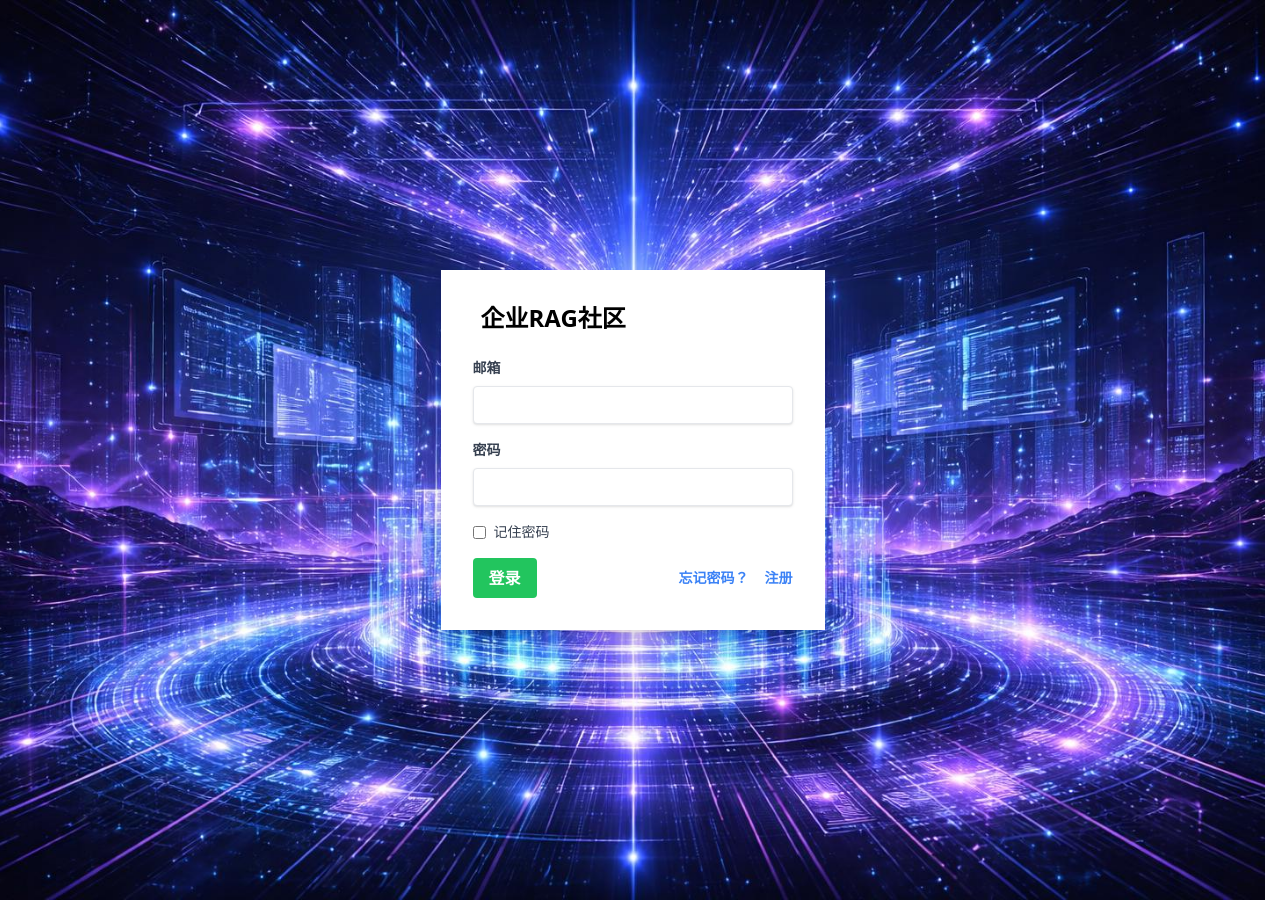
Test: Login › uses form email when EMAIL_NOT_VERIFIED does not provide email and supports resend defaults
Type "fallback@example.com" into the field labelled "邮箱" at (632, 405), box x1=472 y1=386 x2=792 y2=424
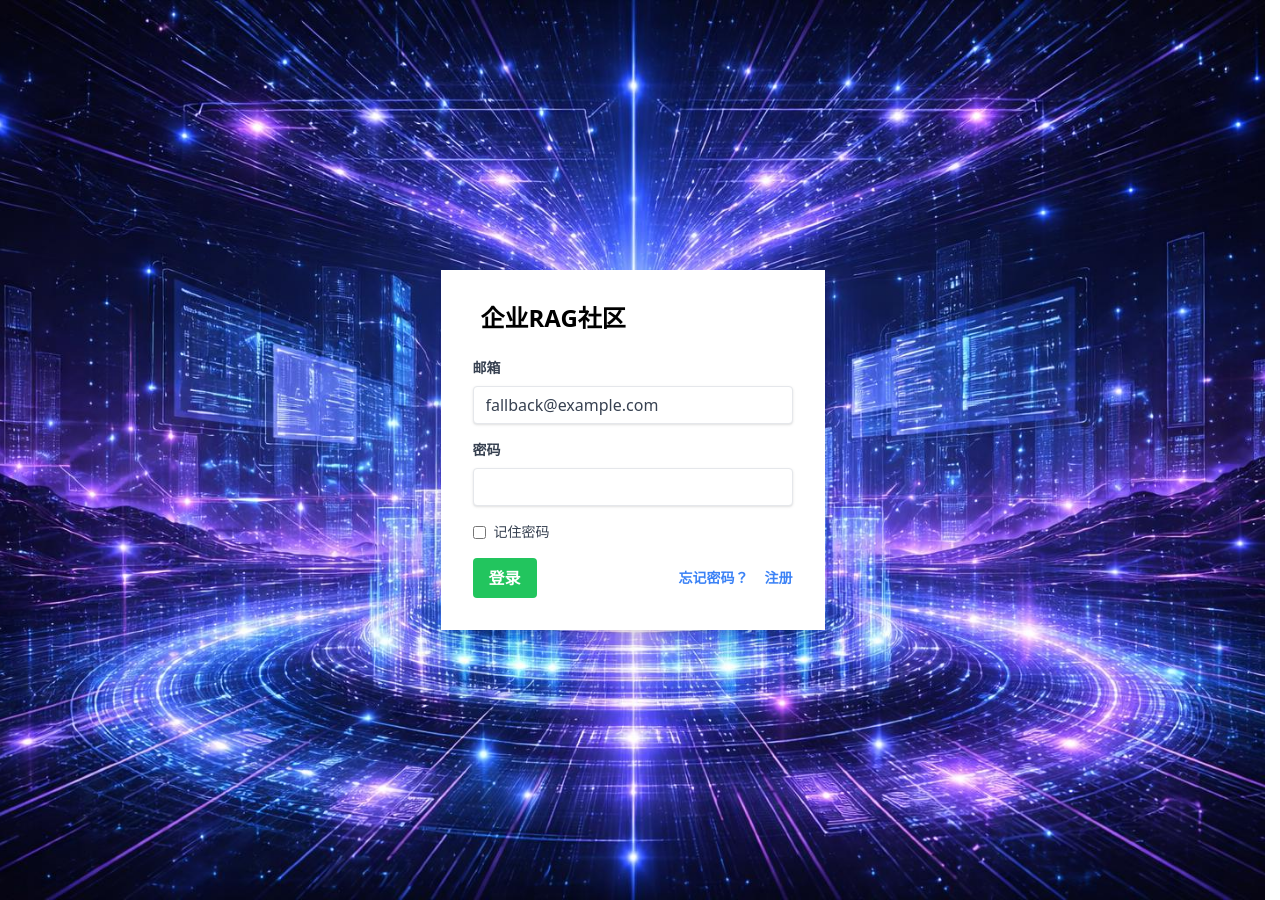
Type "123456" into the password field labelled "密码" at (632, 487), box x1=472 y1=468 x2=792 y2=506
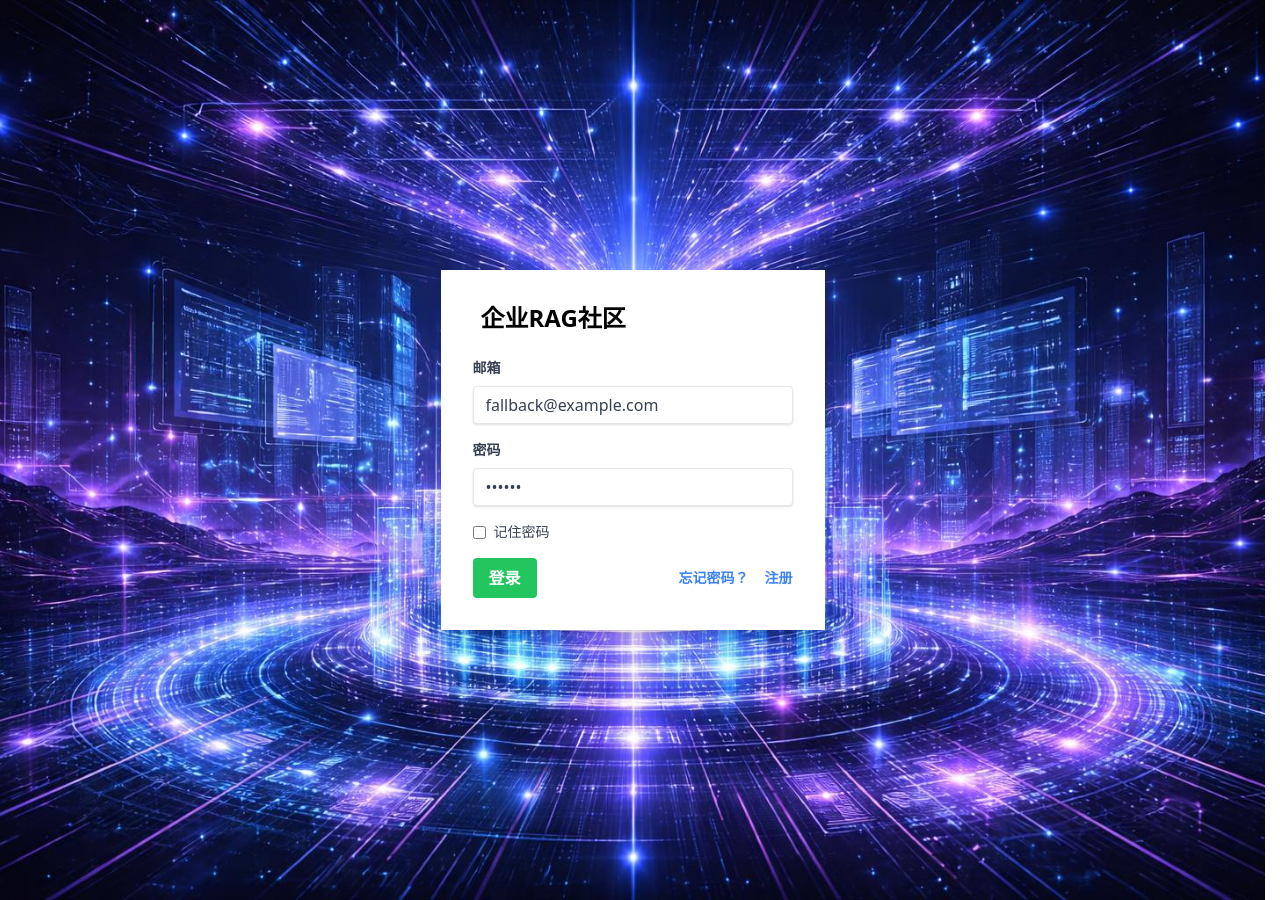
Click the button "登录" at (504, 578), box x1=472 y1=558 x2=536 y2=598
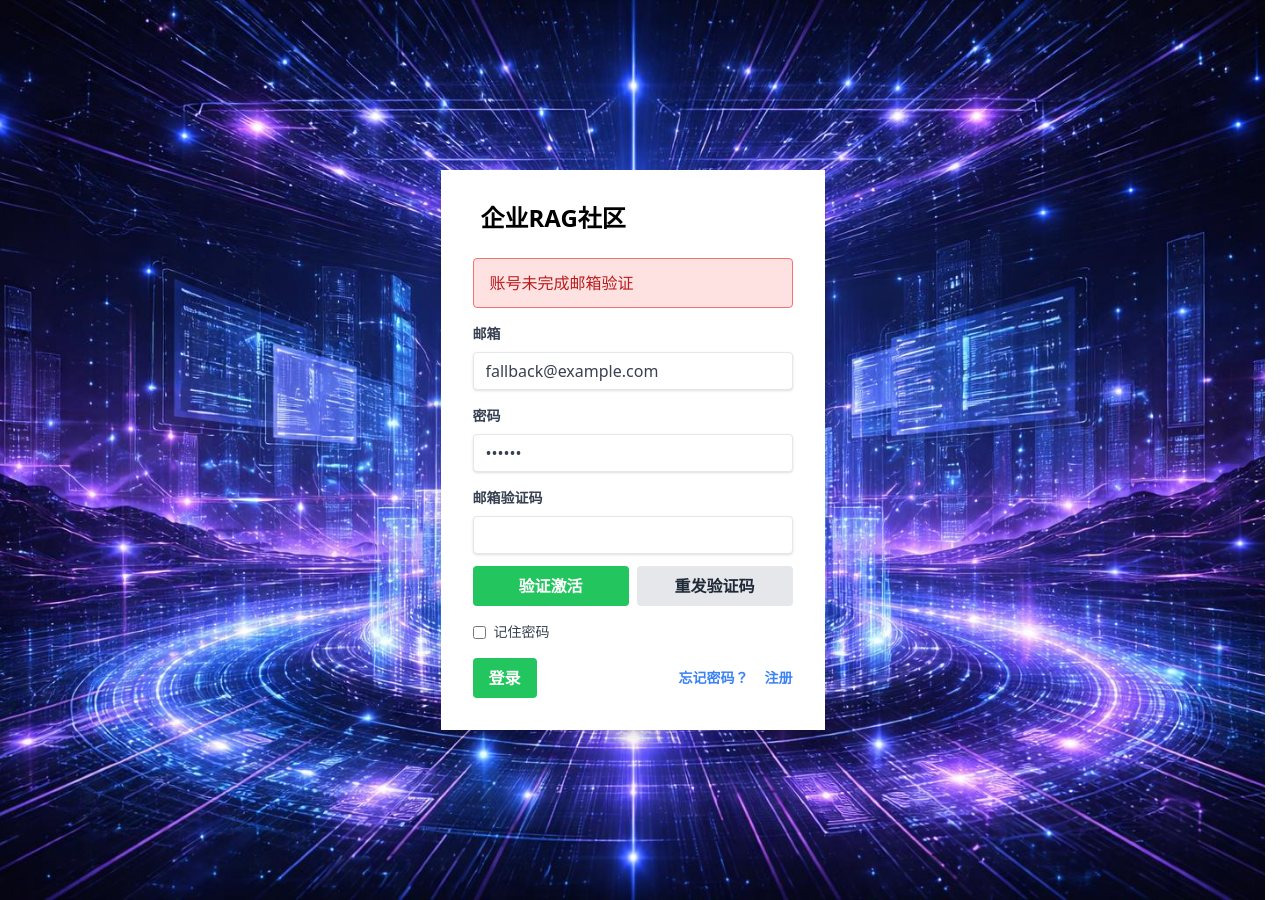
Check: the text "账号未完成邮箱验证" is shown, box x1=472 y1=258 x2=792 y2=308
Click the button "重发验证码" at (714, 586), box x1=636 y1=566 x2=792 y2=606
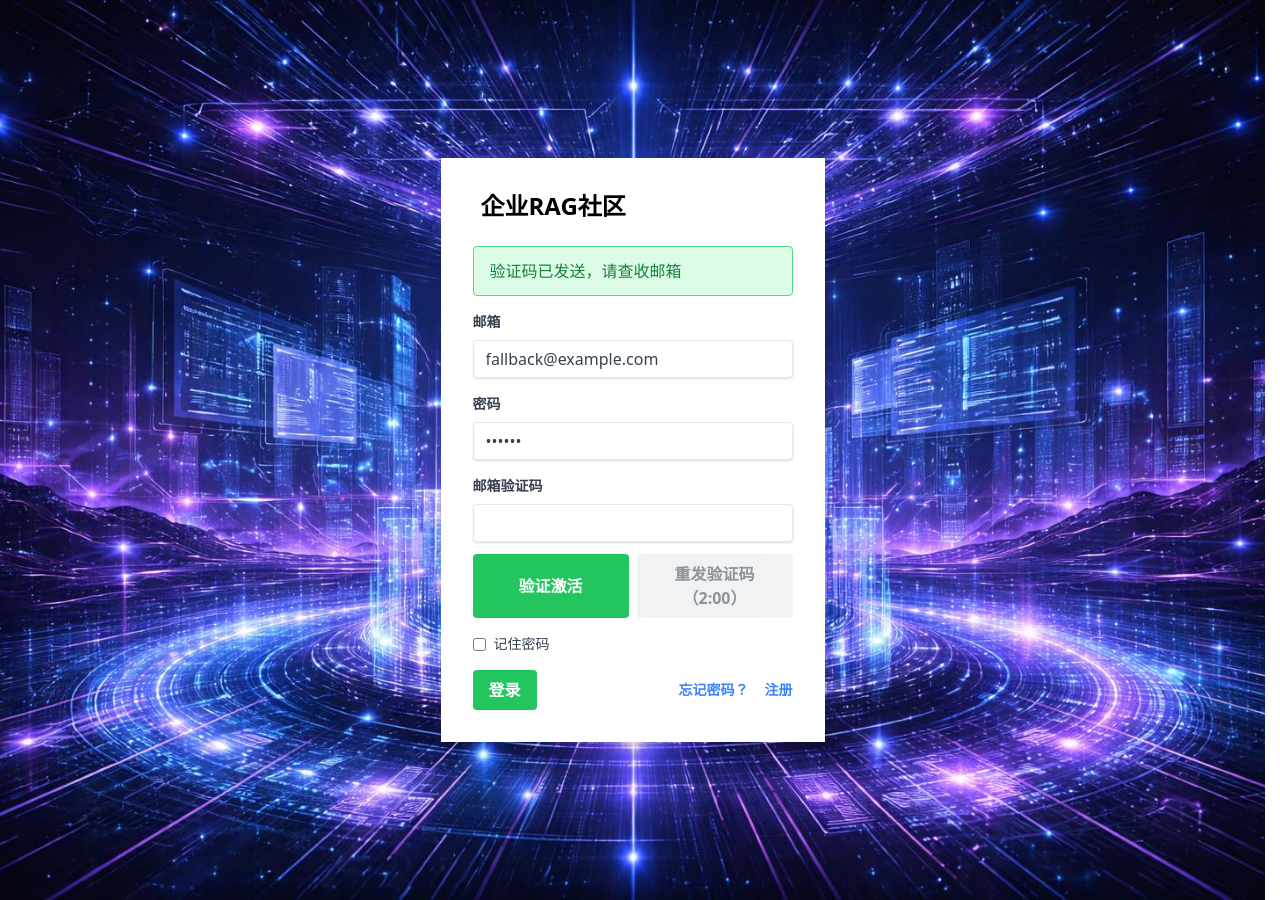
Check: the text "验证码已发送，请查收邮箱" is shown, box x1=472 y1=246 x2=792 y2=296
